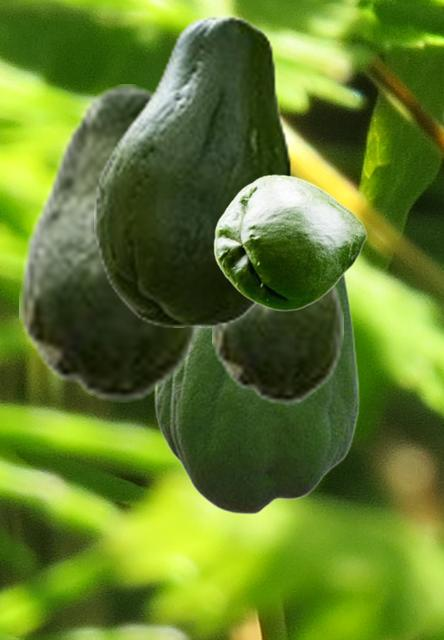sayote: (94, 15, 291, 326), (19, 84, 201, 402), (154, 274, 359, 514), (212, 176, 342, 404), (213, 174, 366, 310)
